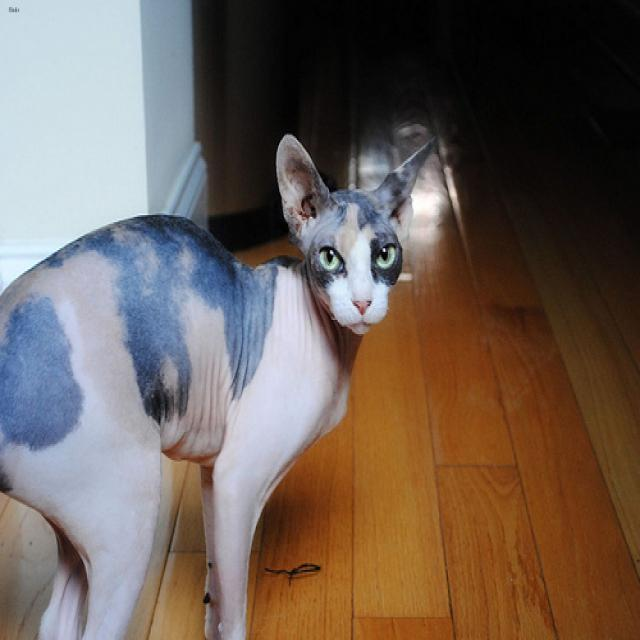Sphynx: (271, 124, 440, 342)
